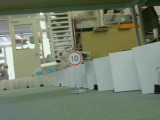speed_10: (66, 50, 84, 66)
